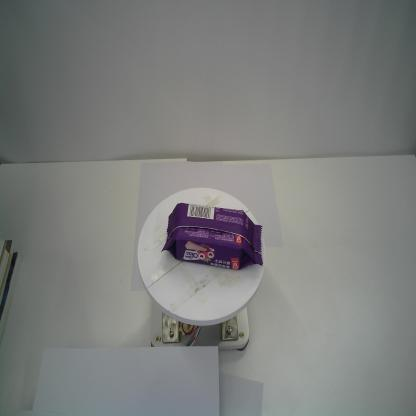Dessert: (160, 202, 263, 271)
